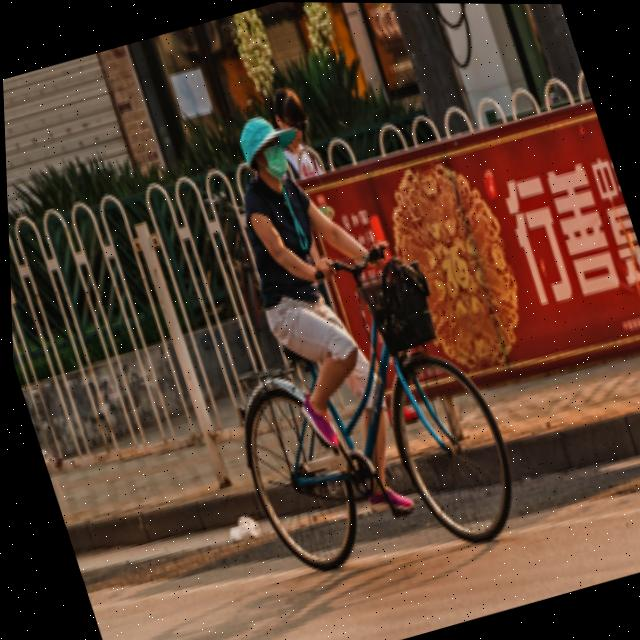Mask: (247, 138, 293, 190)
